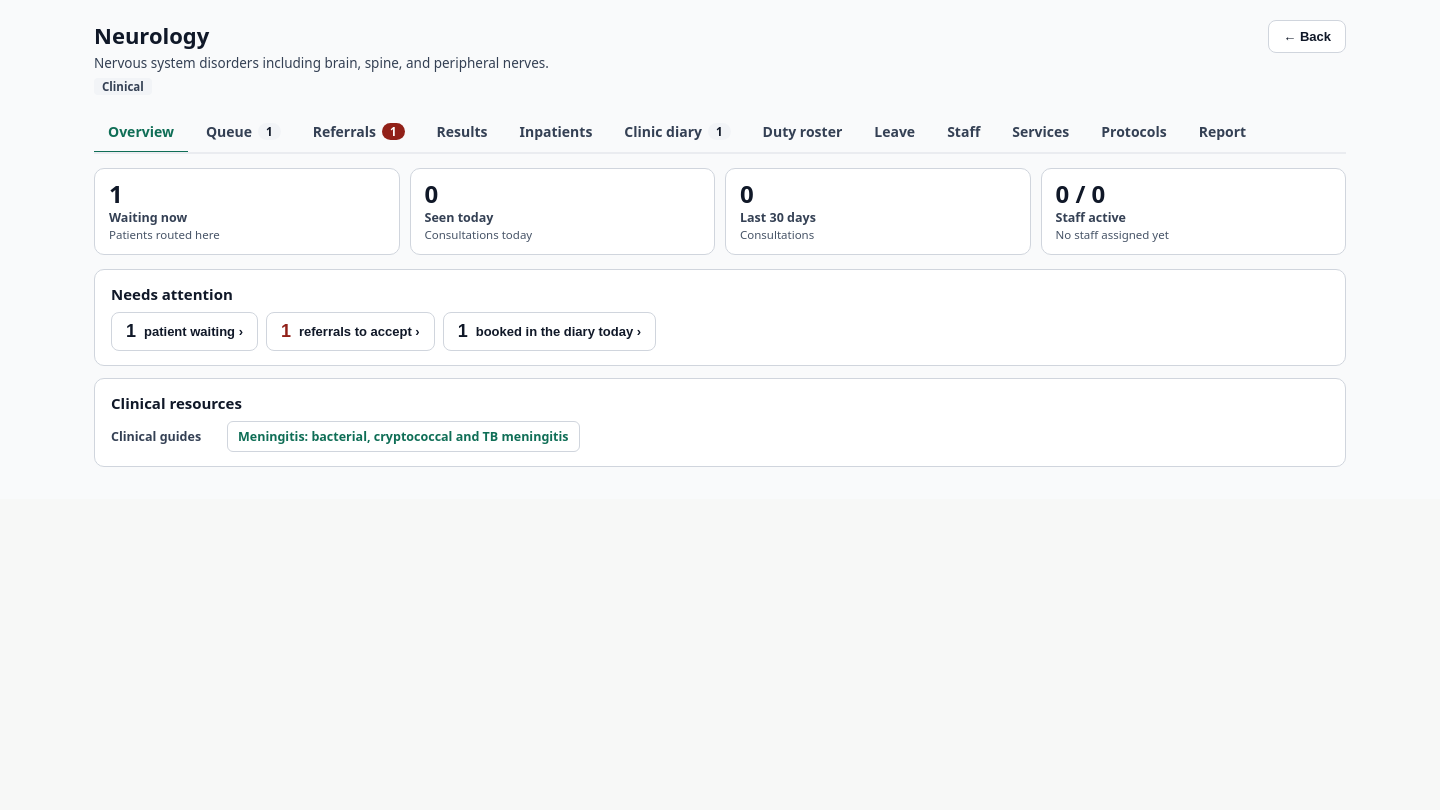
Test case: department tabs › shows one section at a time; the buttons carry counts and the overview links to waiting work
Expected: the tab "Referrals 1" is shown, [299,112,418,154]
Click the button "1 referrals to accept ›" at (350, 332), box [266,312,435,351]
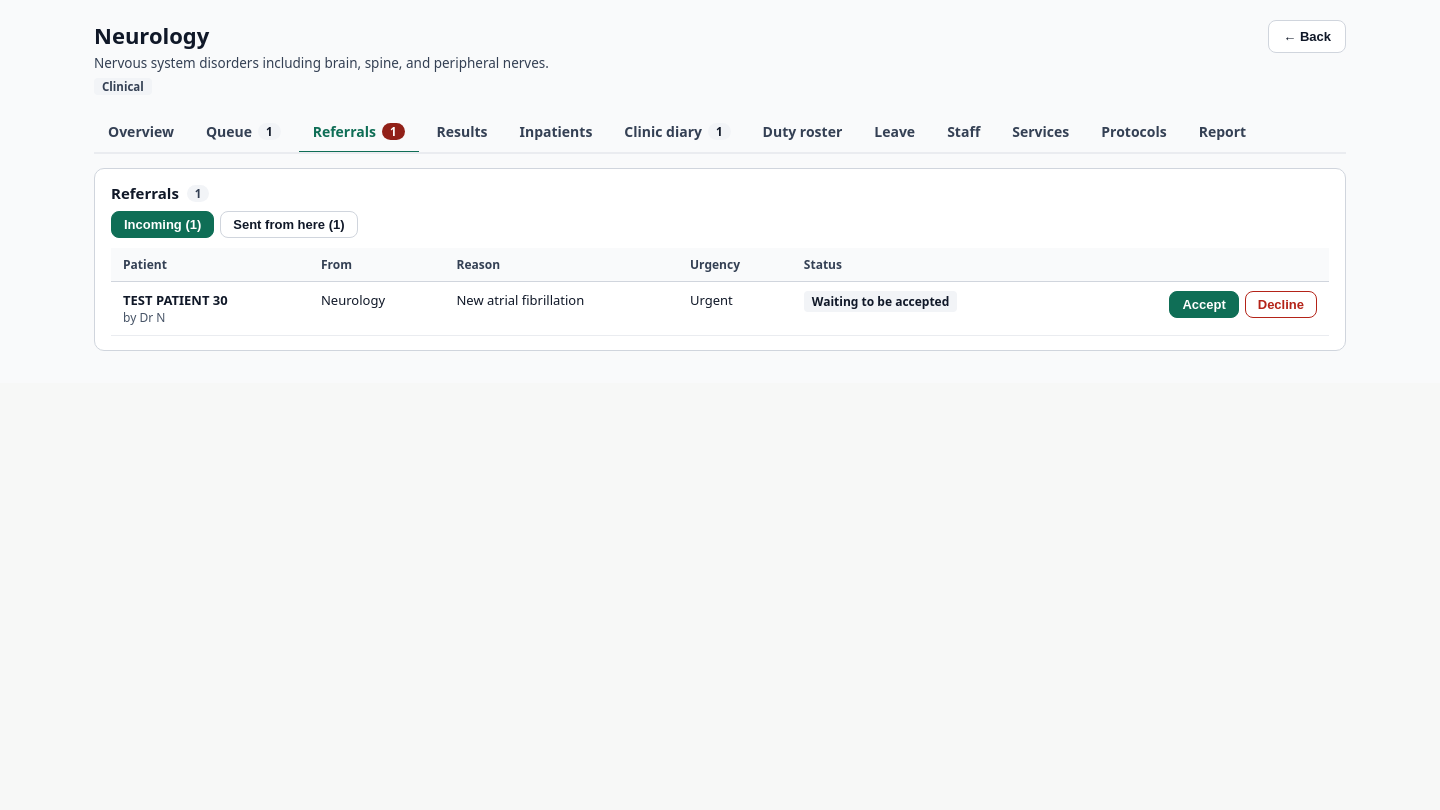
Expected: the element "Referrals" is shown, [94,168,1346,351]
Press ArrowRight in the tab "Referrals 1", box [299,112,418,154]
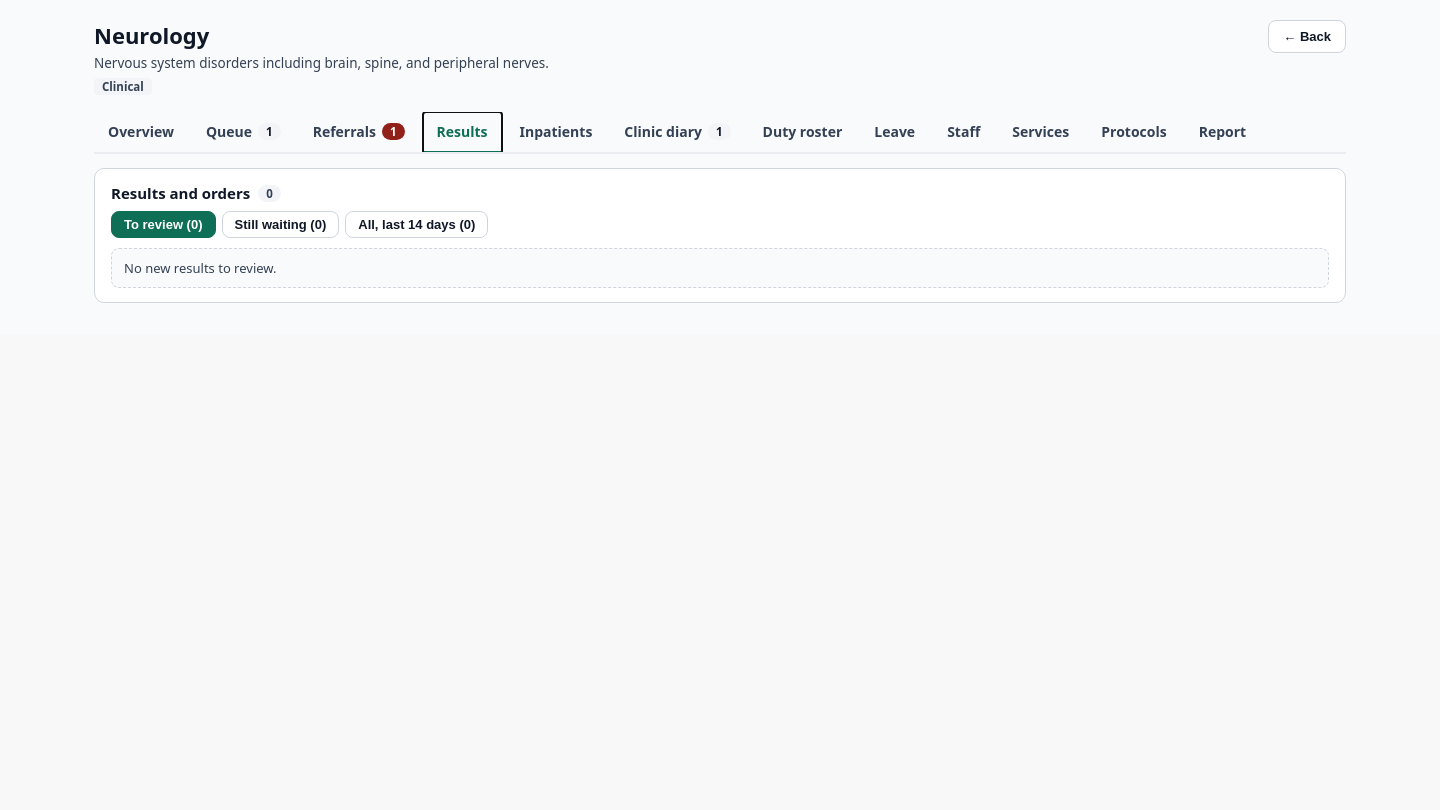
Expected: the tab "Results" is selected, [422,112,502,154]
